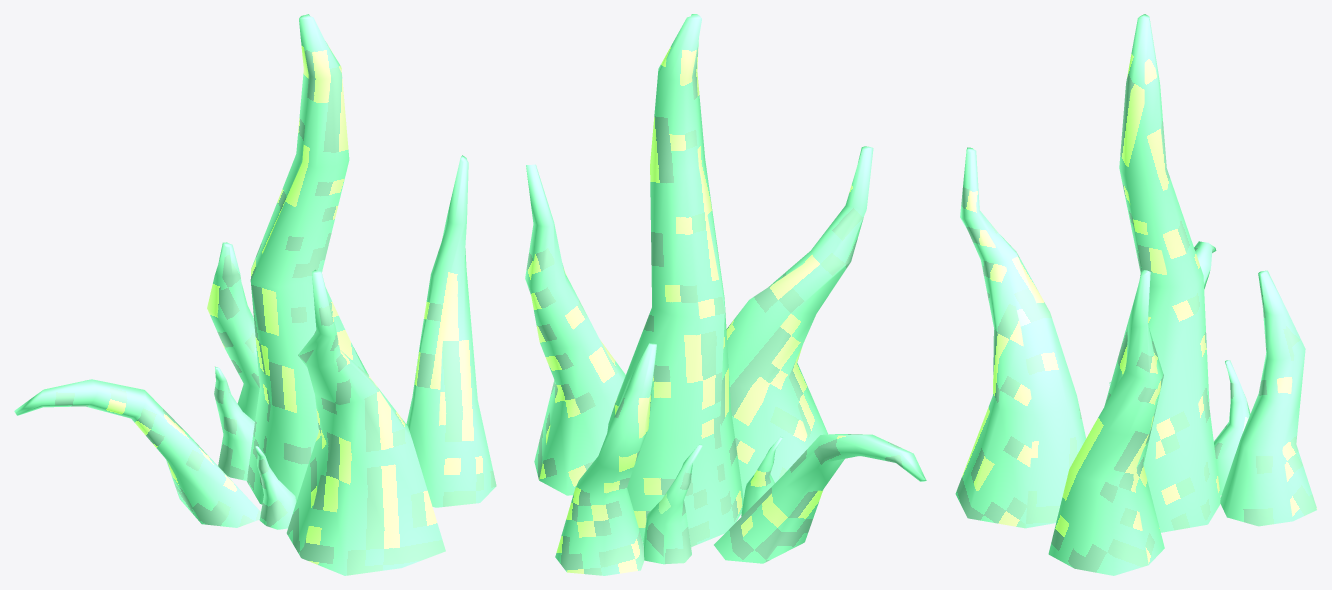
The model's file is RootCluster.glb.
3 views of the same model, side by side, from view 1: azimuth 30°, elevation 25°; view 2: azimuth 150°, elevation 25°; view 3: azimuth 270°, elevation 25° (orthographic). The views are drawn at different scales.
Visible parts, largest first — view 1: Cube; view 2: Cube; view 3: Cube.
Part boxes in pixels (x1,y1,x2,y2): Cube: (14,14,496,575); Cube: (525,14,926,575); Cube: (955,14,1317,575).
Size of the model in its own units: 1.3 by 1.4 by 0.963.
